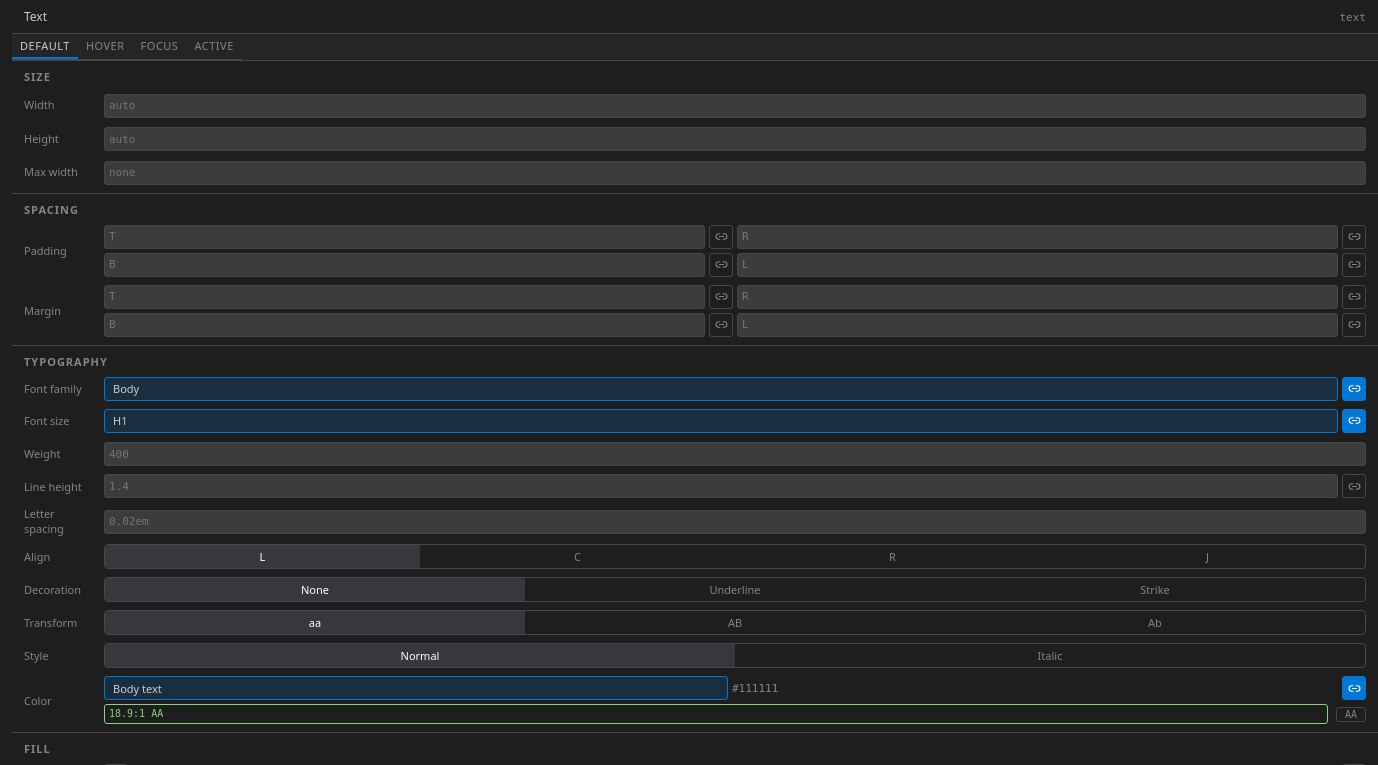
it: Color picker + contrast (L-PRP-04) › toggles the AA/AAA target
The width and height of the screenshot is (1378, 765).
Click the button "AA".
click(1351, 714)  # box top-left (1336, 706), bottom-right (1366, 722)
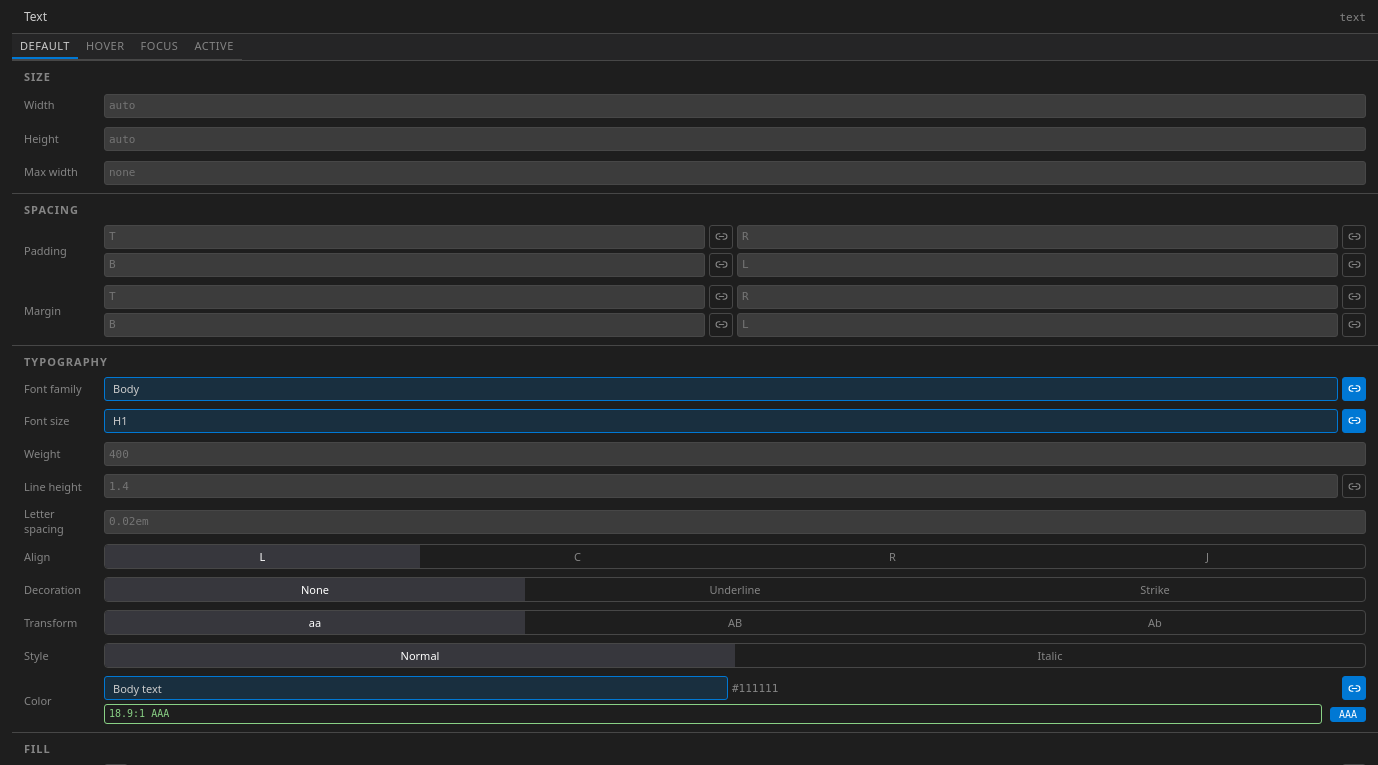
expect the button "AAA" is shown: met, box top-left (1330, 706), bottom-right (1366, 722)
